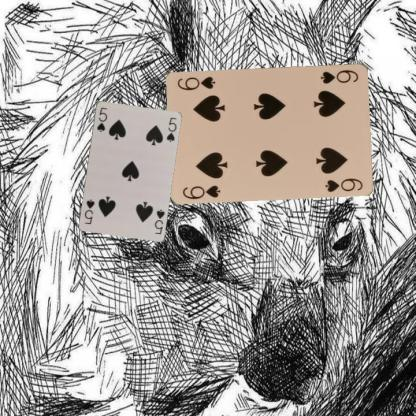5s: (94, 104, 108, 133), (152, 207, 166, 235)
6s: (318, 67, 360, 85), (180, 182, 222, 200)
